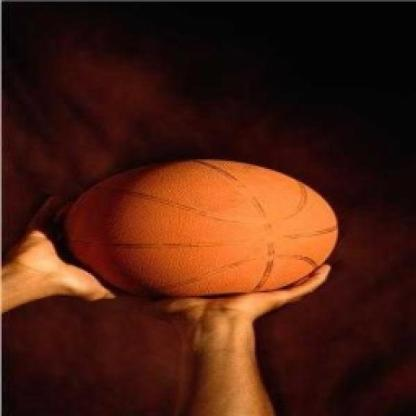basketball: (57, 155, 339, 298)
